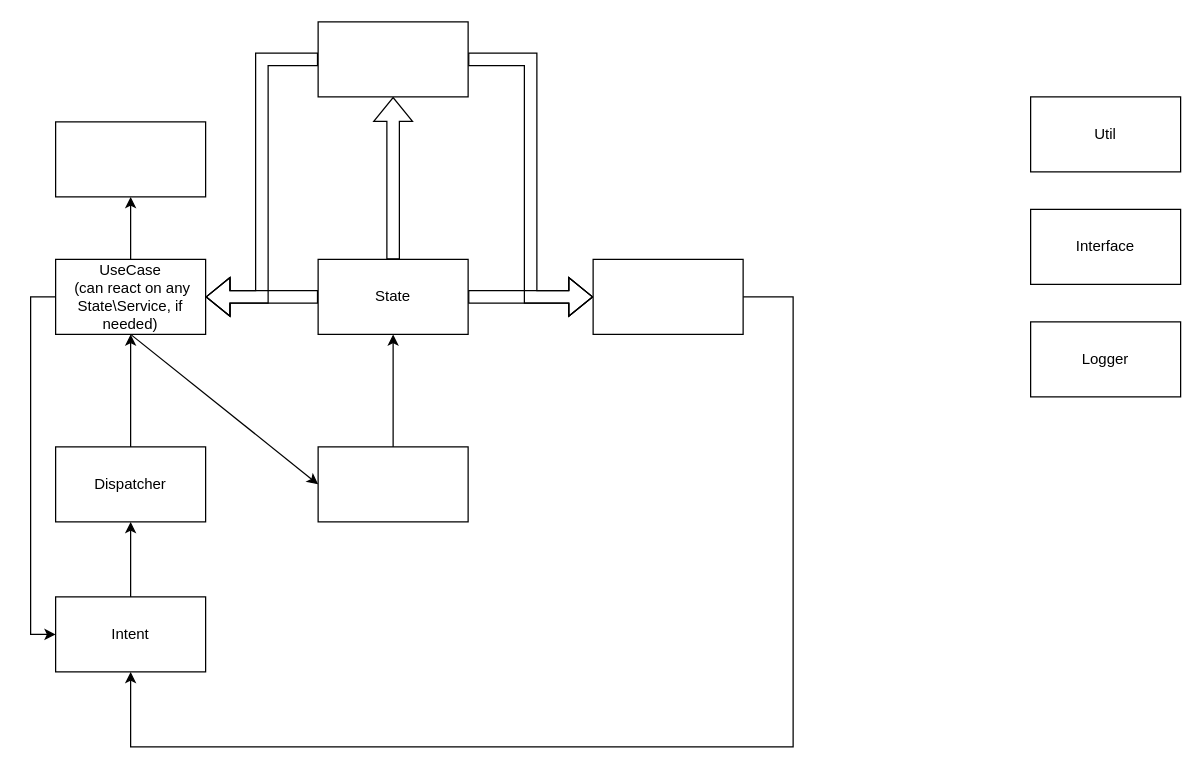
This 1203x779 diagram has some shape labels left out. The centre of each missing label's shape, as x and y in pixels:
"Component" goes at (667,296).
"Derived State" goes at (392,59).
"Service\Gateway" goes at (130,159).
"StateUpdater" goes at (392,484).
